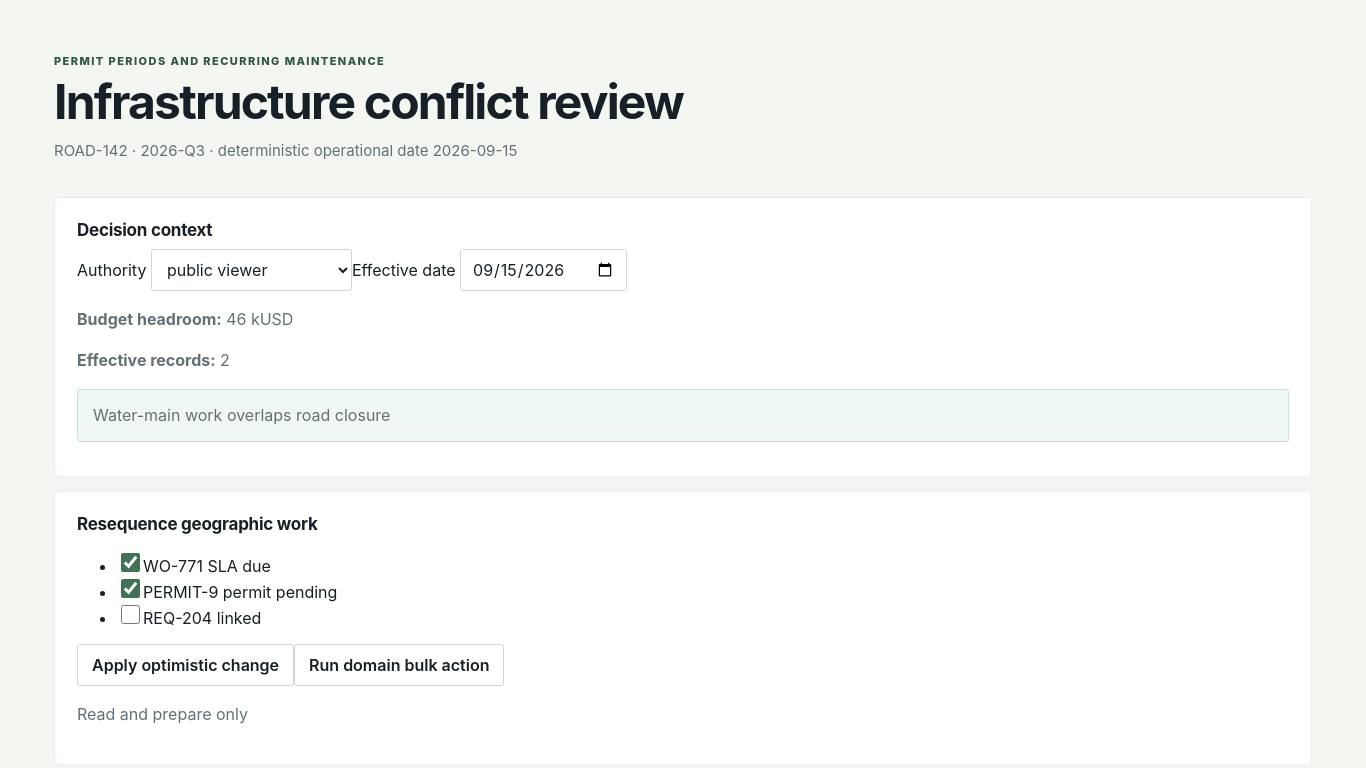
it: Infrastructure conflict review › shows permission behavior and partial recovery in the UI
Select "emergency authority" in the dropdown labelled "Authority" at (251, 270), box [151,249,352,291]
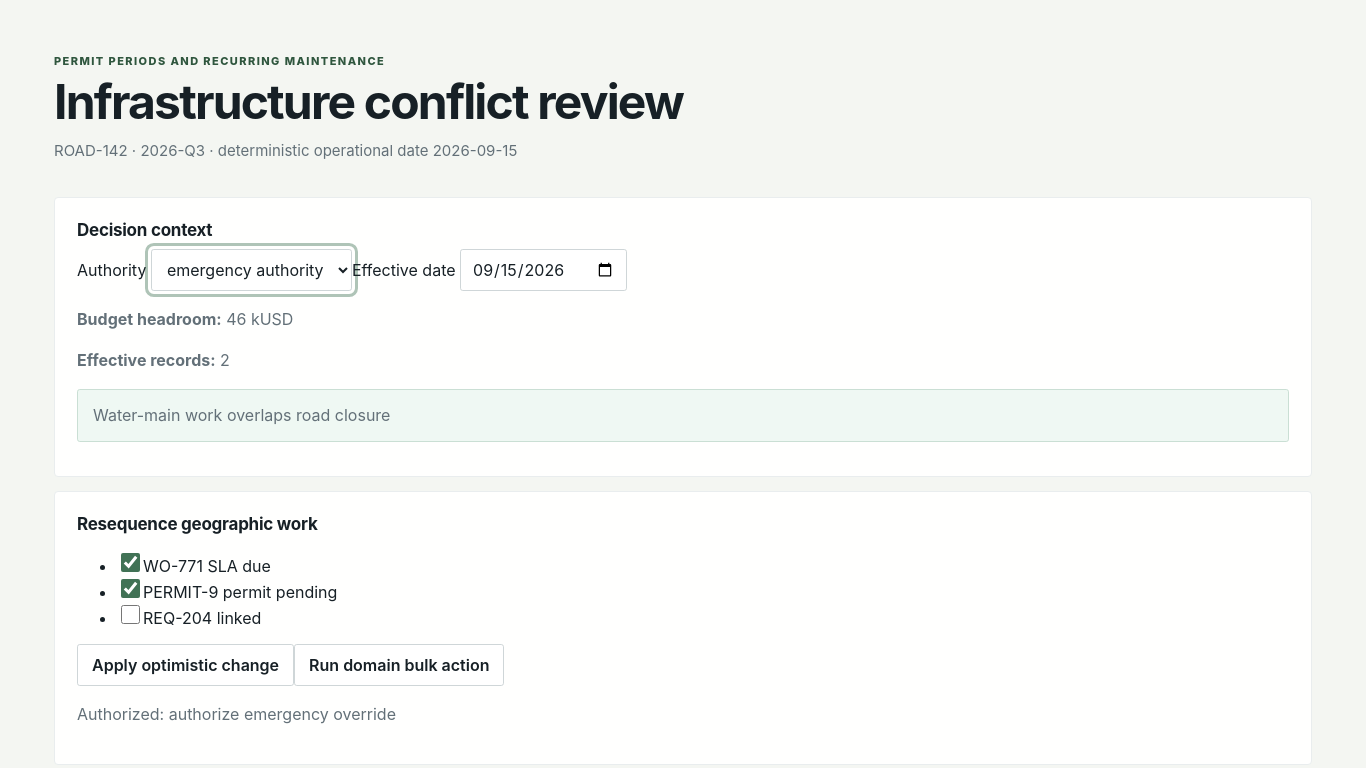
Click the button "Run domain bulk action" at (399, 665), box [294,644,504,686]
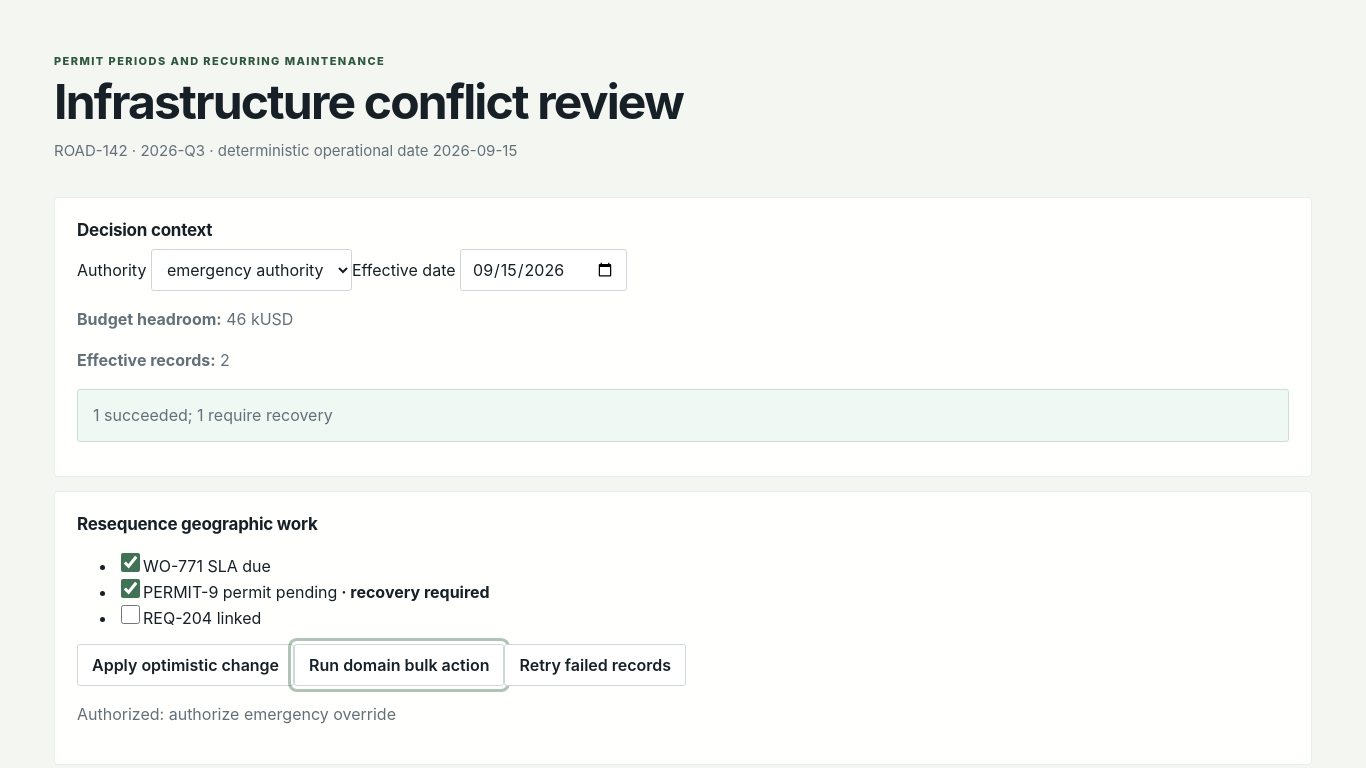
Now the message reads "1 succeeded; 1 require recovery", box [93,405,333,425]
Now the text "· recovery required" is shown, box [337,582,490,602]
Now the button "Retry failed records" is shown, box [504,644,686,686]
